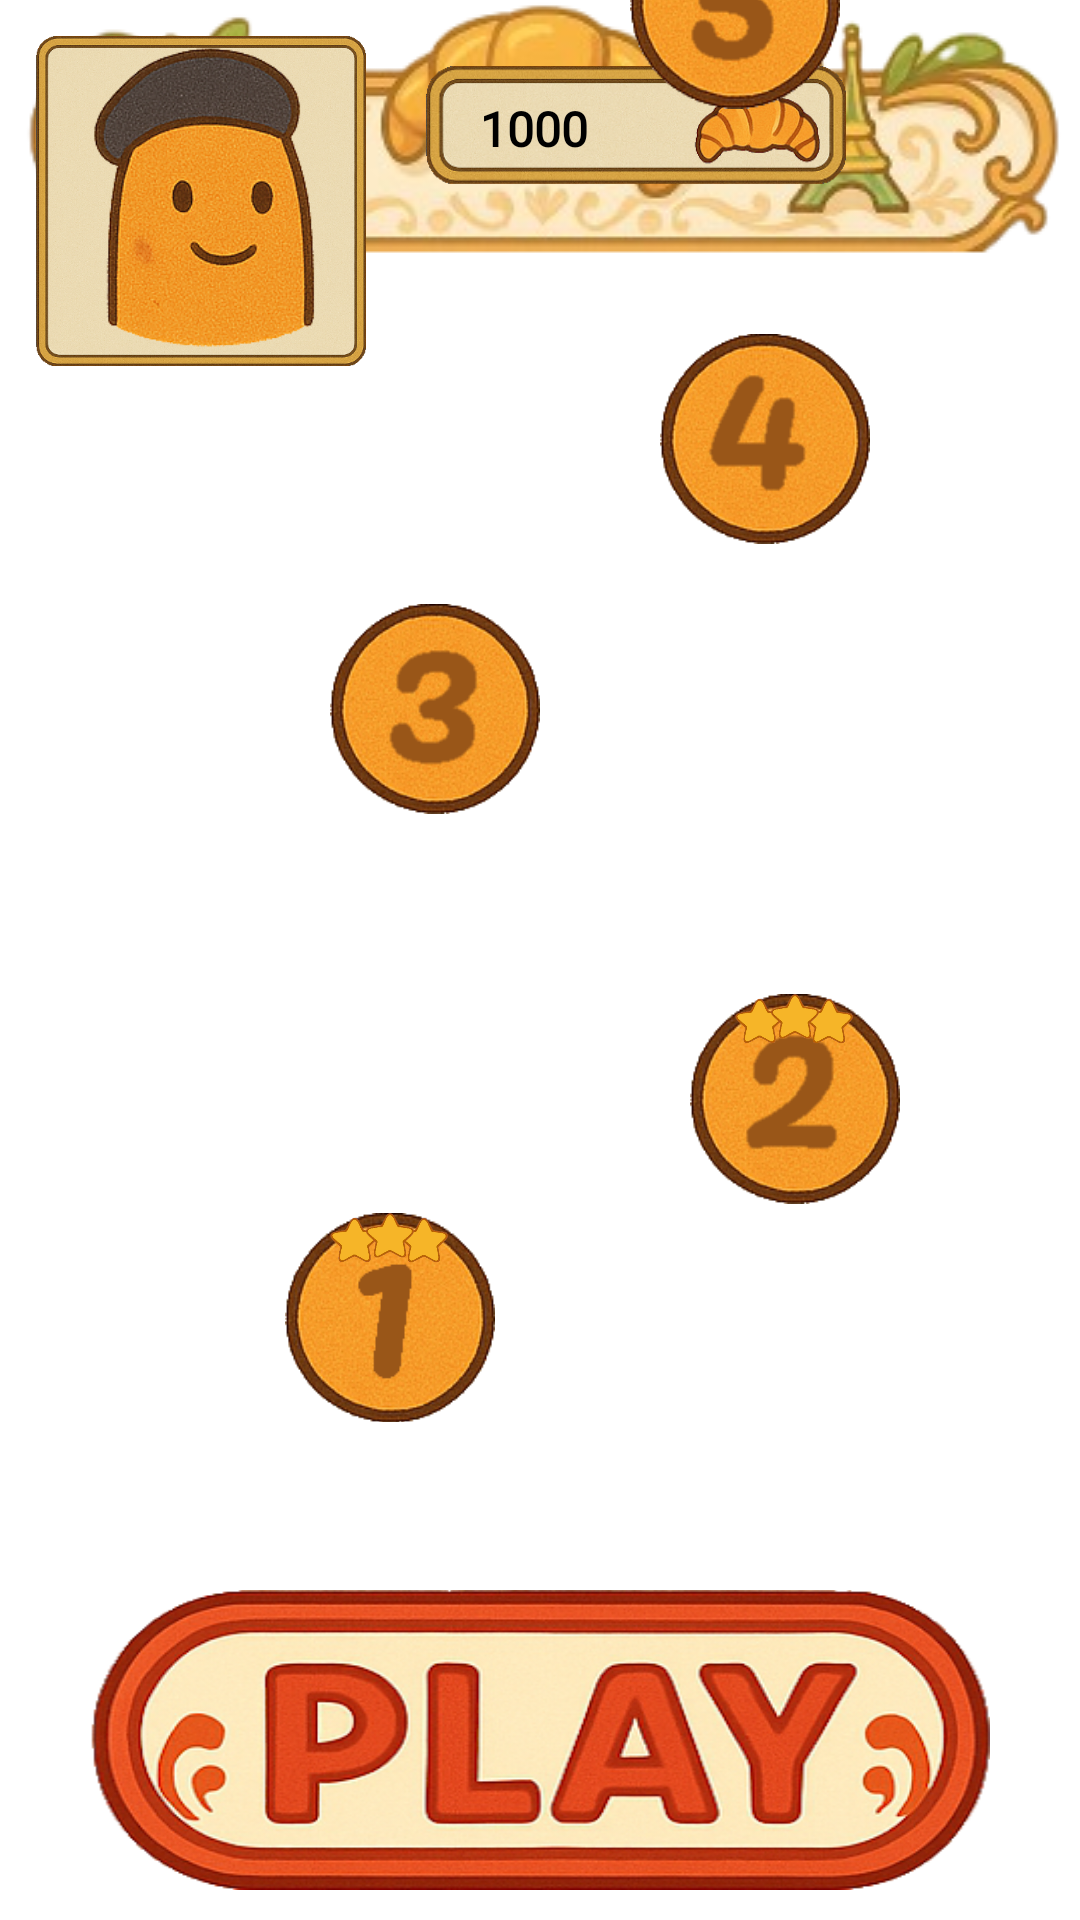

Where icons sit on this 1080 x 1920 app screen, as BBox(x1, y1, x2, y2):
estrela: BBox(700, 994, 890, 1054), BBox(295, 1213, 485, 1273)
